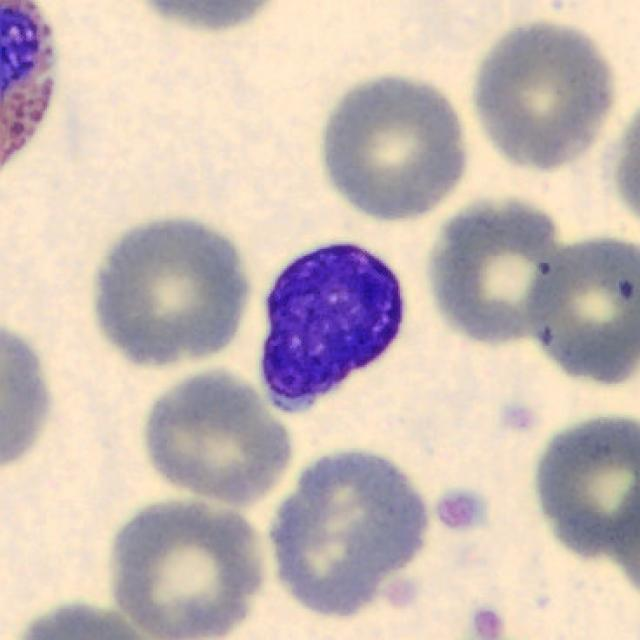Linfocito: (261, 244, 405, 413)
